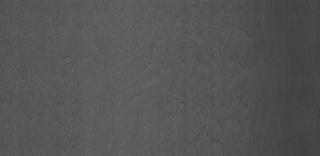silk spot: (126, 27, 214, 117), (219, 15, 269, 132)
